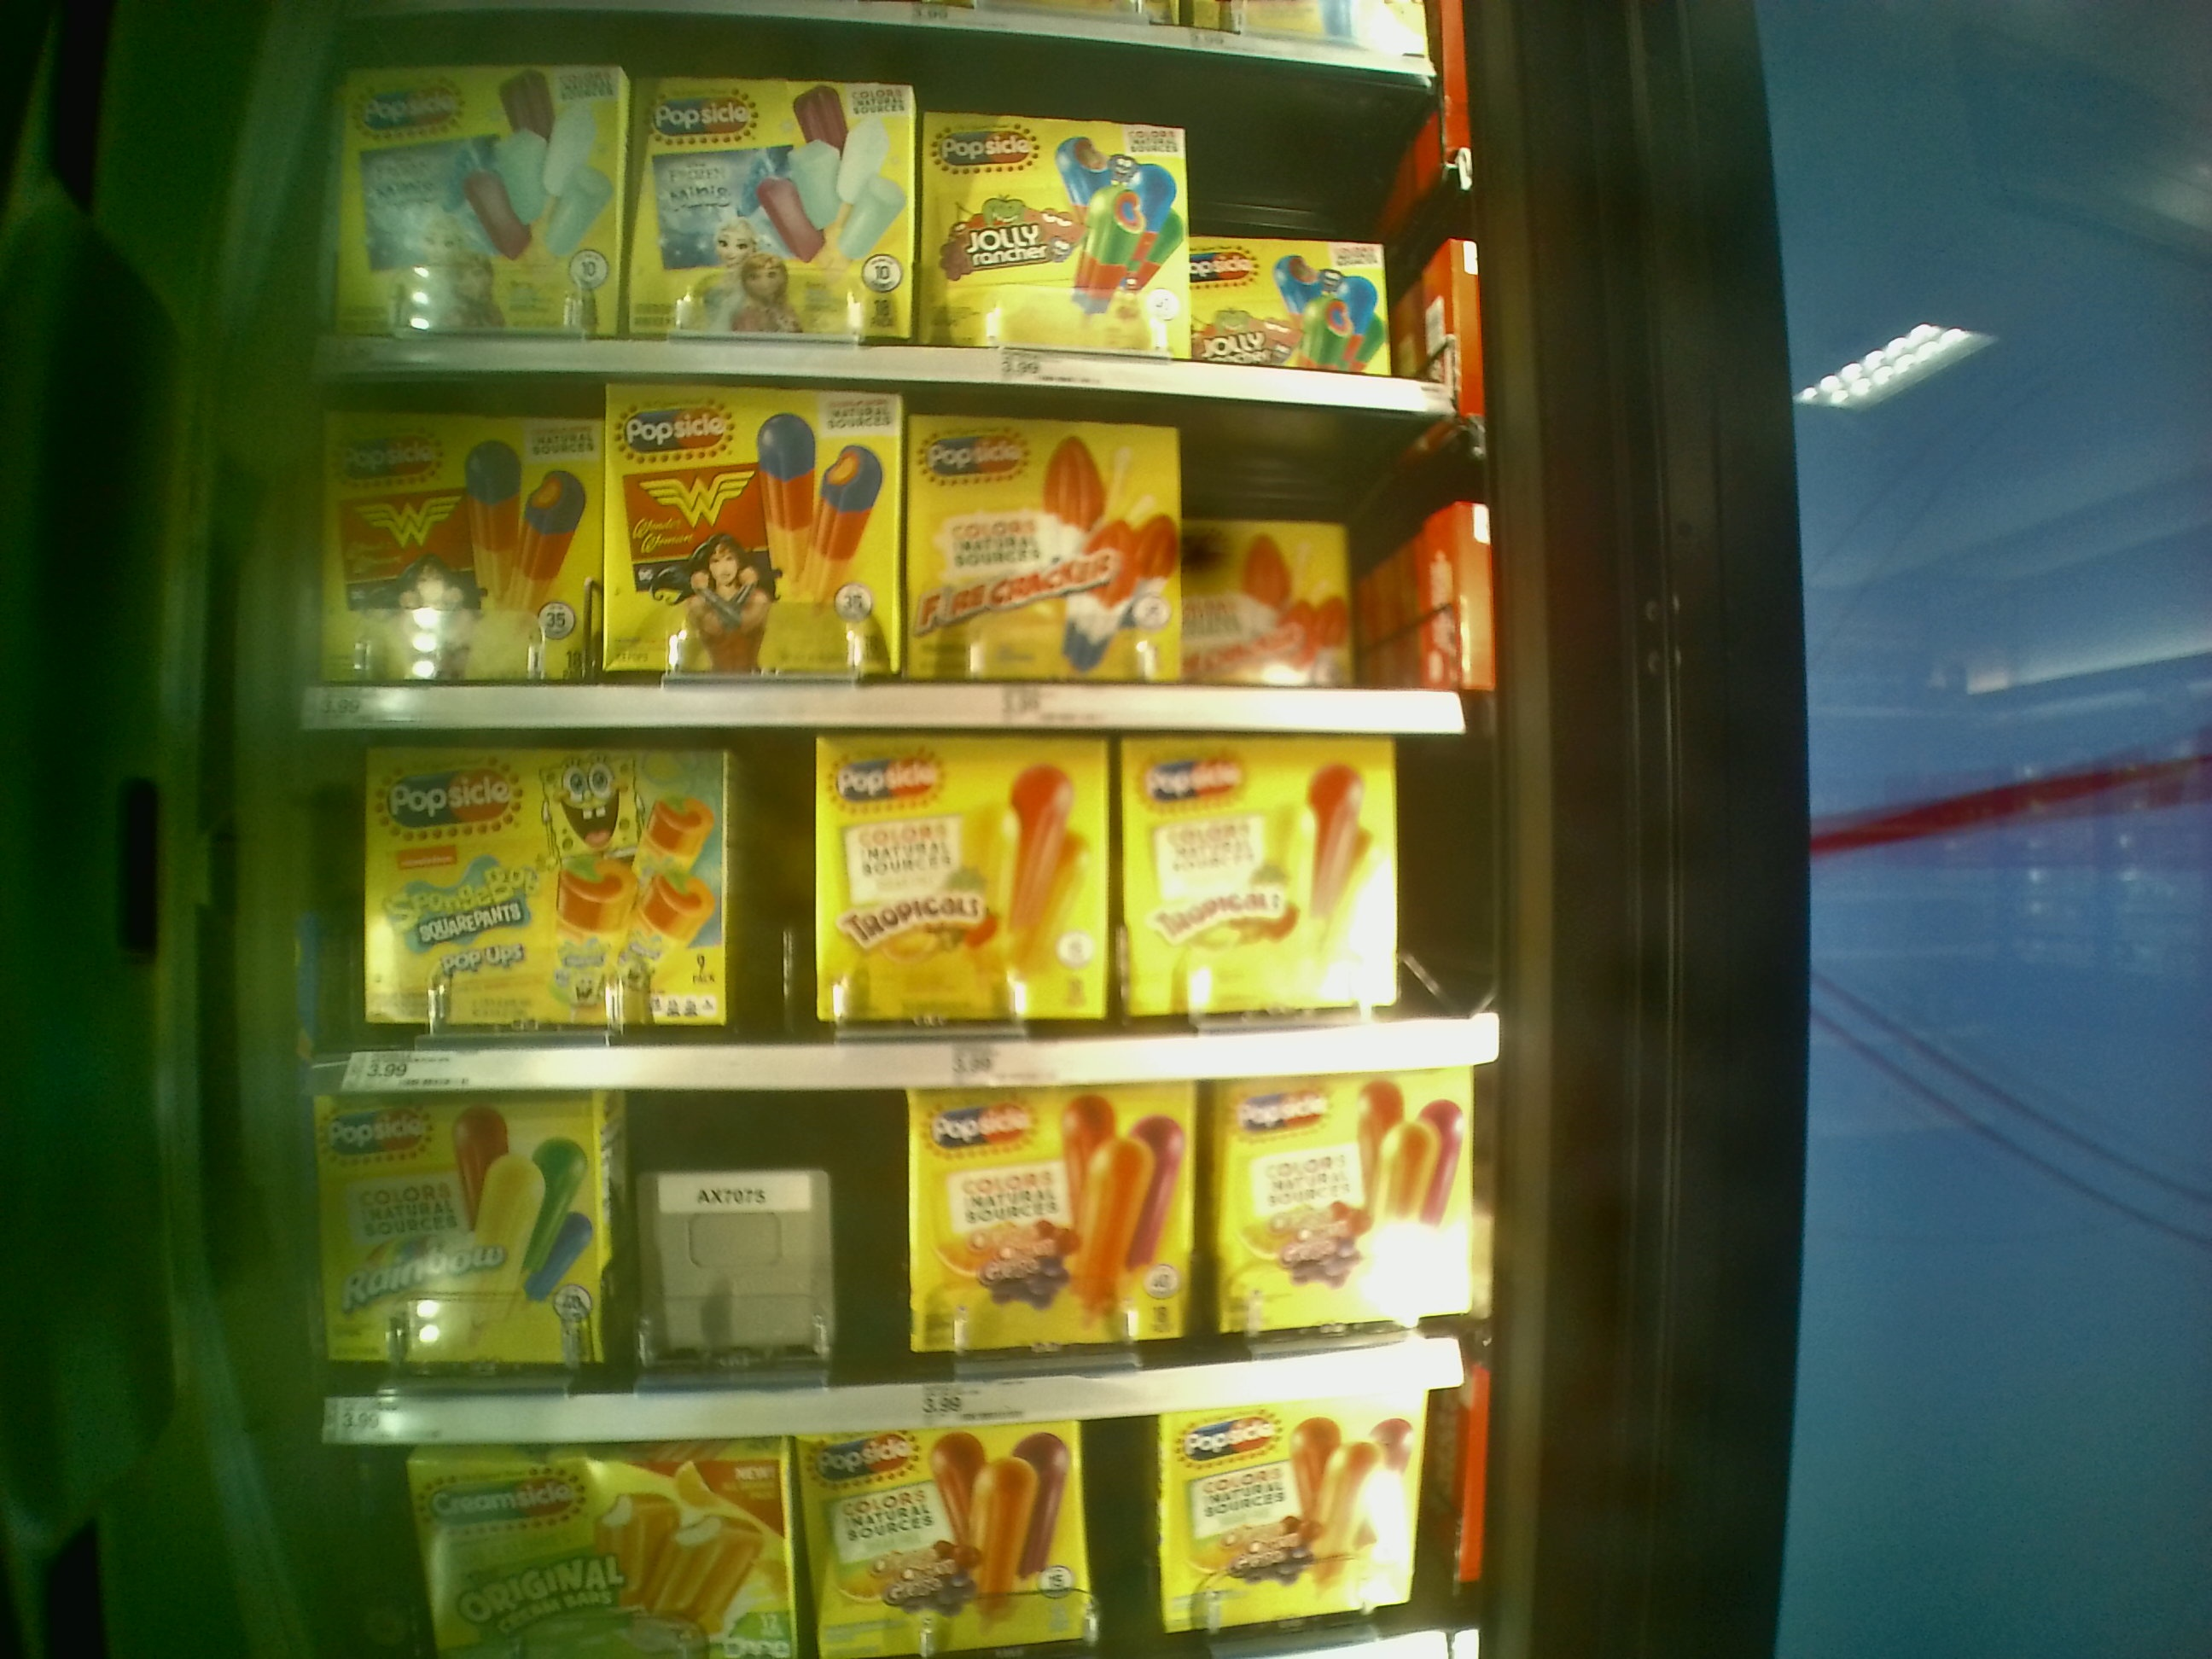frozen-food-shelf: (298, 737, 1515, 1098), (296, 1100, 1536, 1453), (301, 375, 1468, 734)
